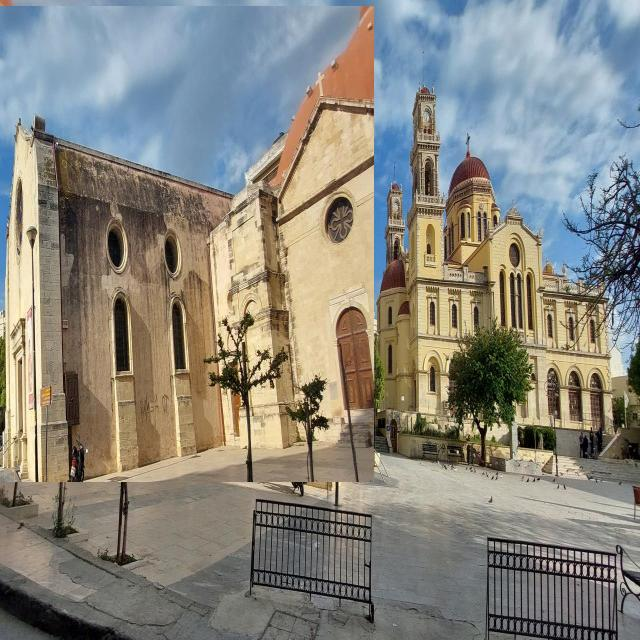Agia Aikaterini: (1, 7, 375, 483)
